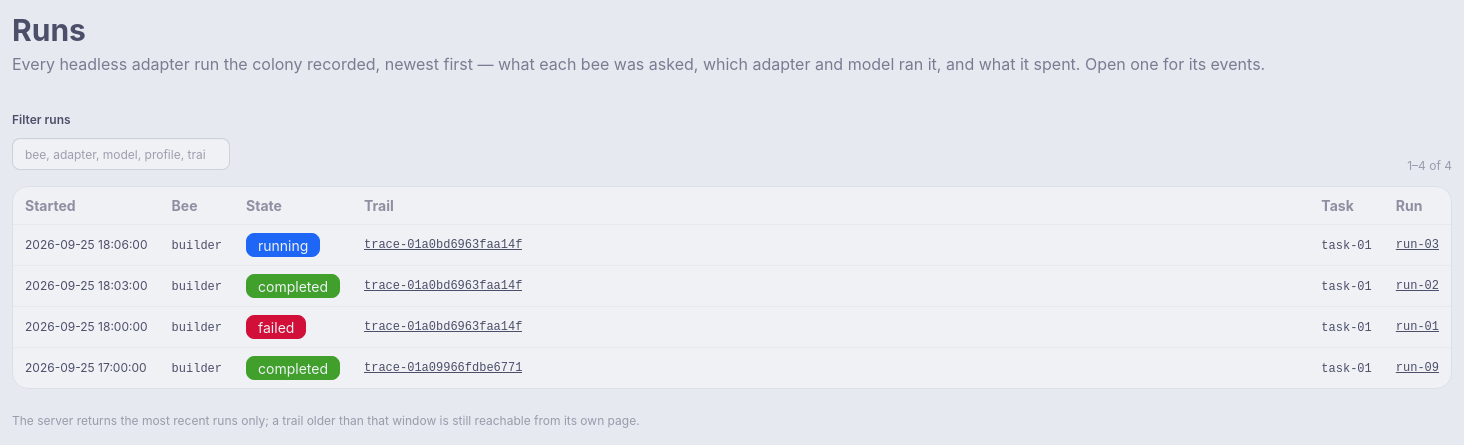
runs list › filters on a hidden model, which is what an operator reaches for by name
Type "sonnet" into the search field labelled "Filter runs" at (121, 154), box [12, 138, 230, 170]
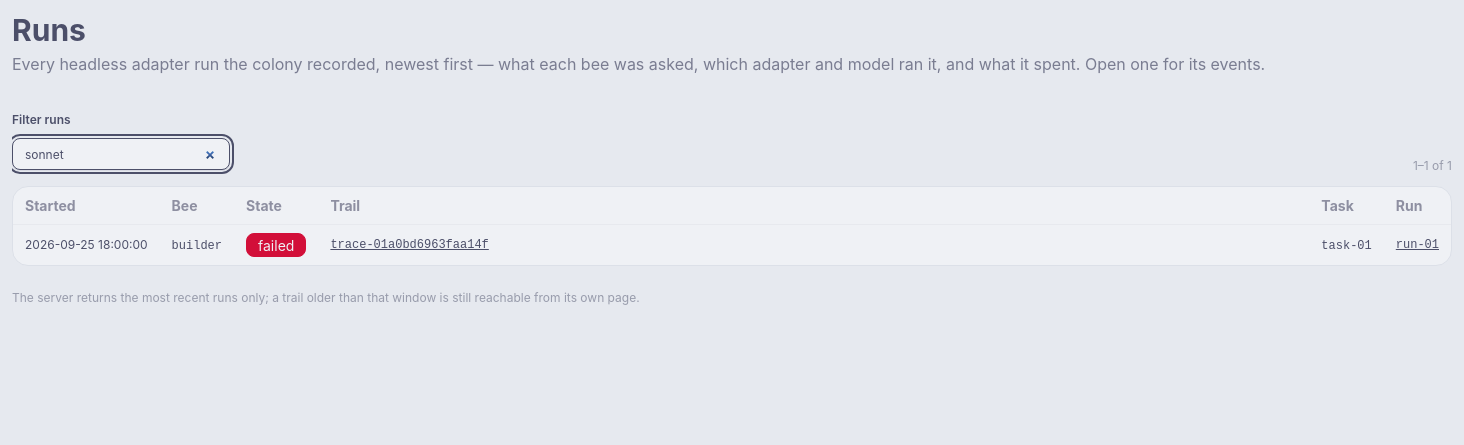
expect the link "run-01" is shown: met, box [1396, 236, 1439, 254]
expect the link "run-02" is gone: met
expect the link "run-03" is gone: met
